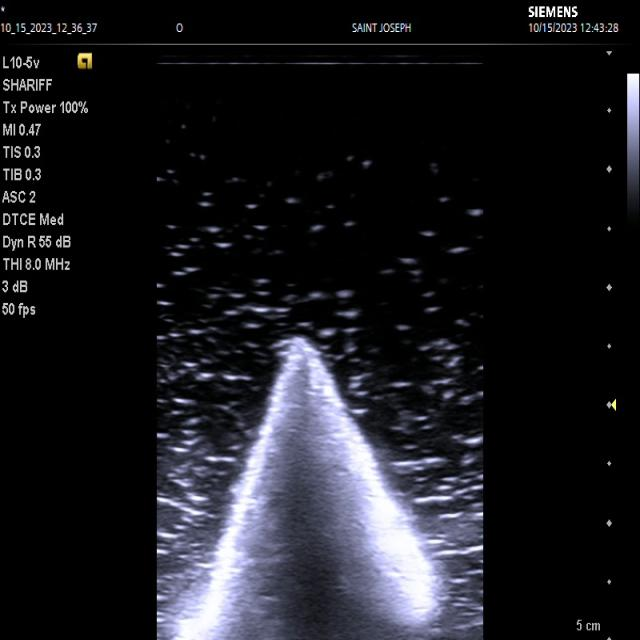tissue: (174, 337, 446, 640)
